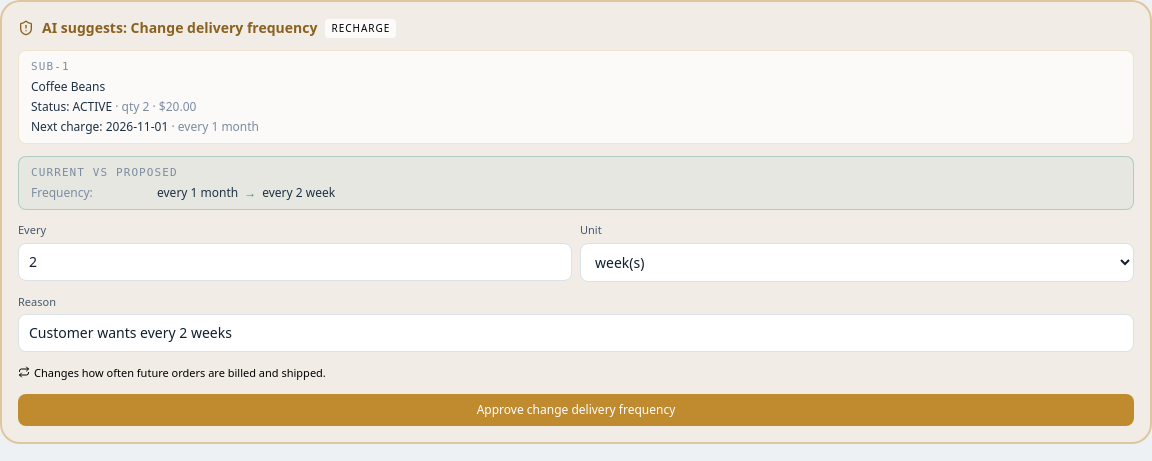
Test: SubscriptionApprovalPanel › shows current vs proposed frequency and follows edits
This screenshot has width=1152, height=461.
Expected: the element with test id "proposed-change" shows "every 1 month", [157, 184, 238, 201]
Expected: the element with test id "proposed-change" shows "every 2 week", [262, 184, 335, 201]
Replace the text in the number field showing "2" with "5" at (295, 262), box [18, 242, 572, 280]
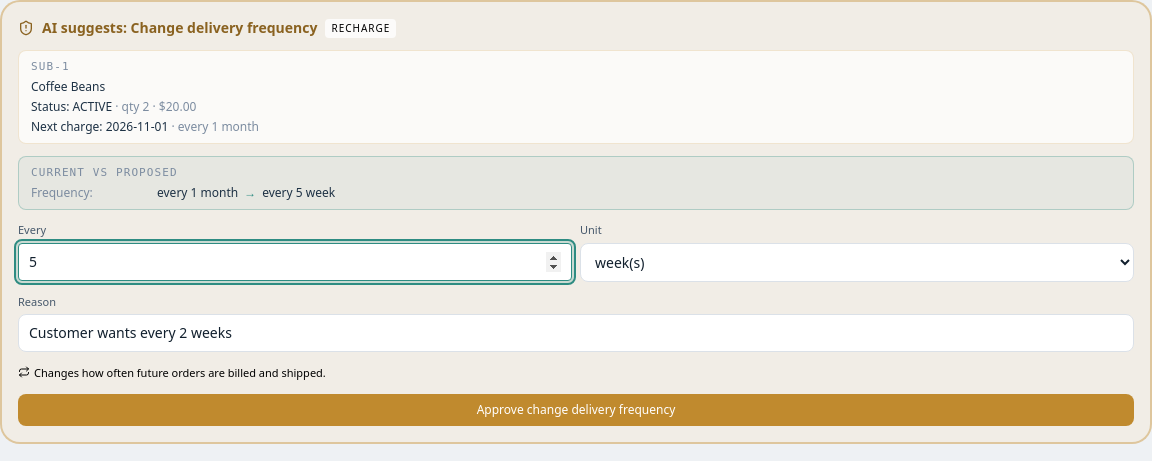
Result: the element with test id "proposed-change" shows "every 5 week" at [262, 184, 335, 201]
